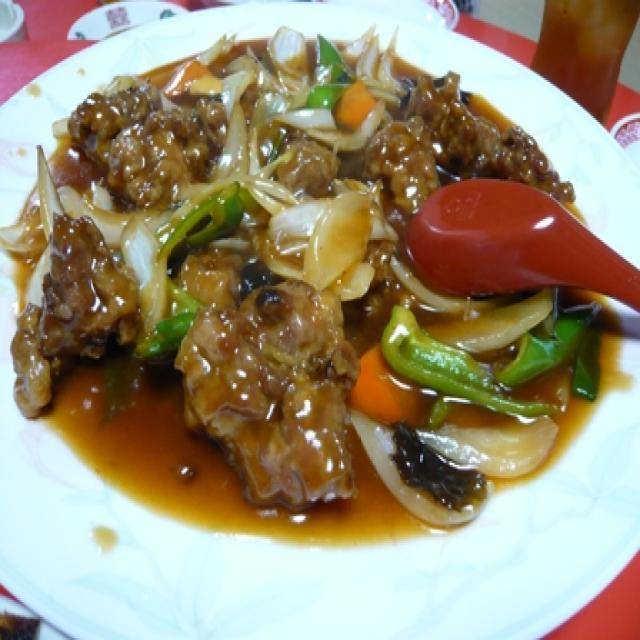猪肉菜式: (0, 26, 617, 546)
